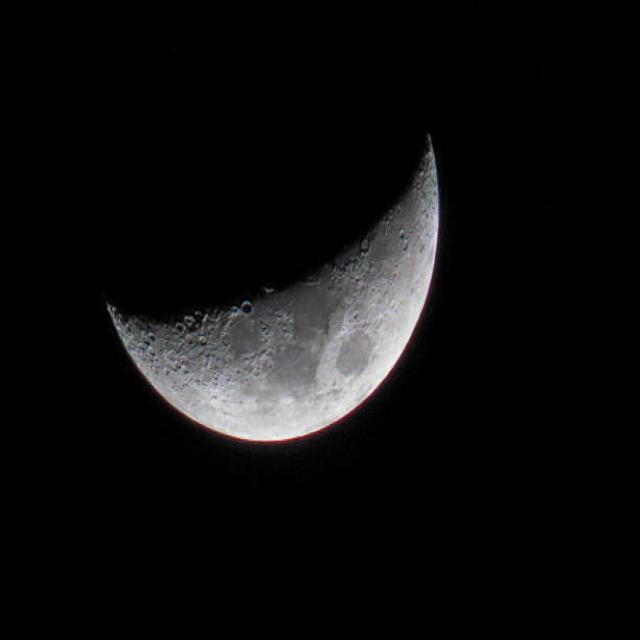moon: (79, 33, 438, 464)
